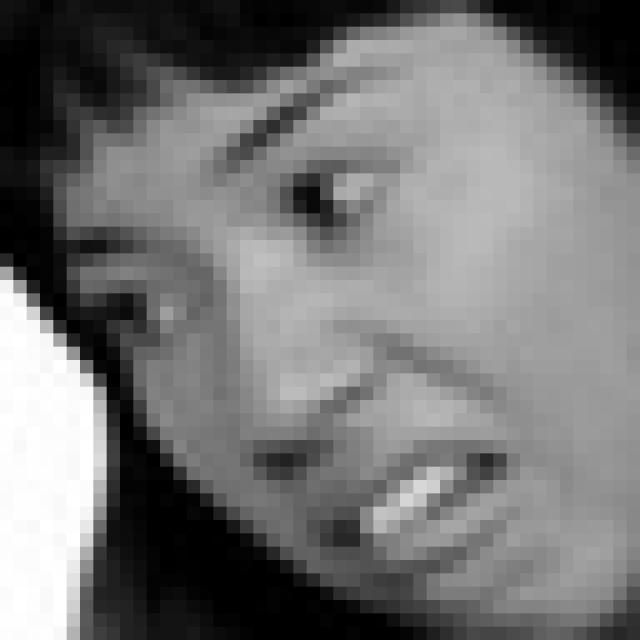disgust: (58, 65, 546, 579)
